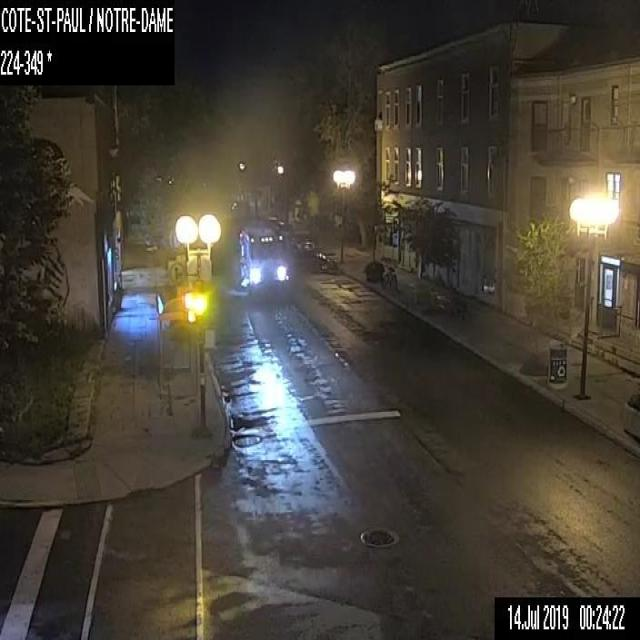vehicle: (238, 224, 288, 294)
